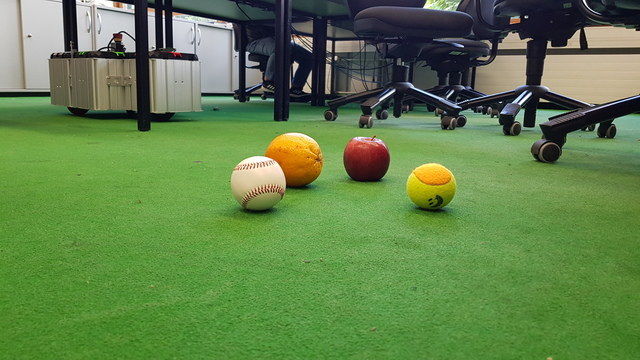013_apple: (343, 135, 392, 182)
017_orange: (266, 132, 323, 187)
055_baseball: (230, 156, 288, 212)
056_tennis_ball: (406, 163, 458, 210)
